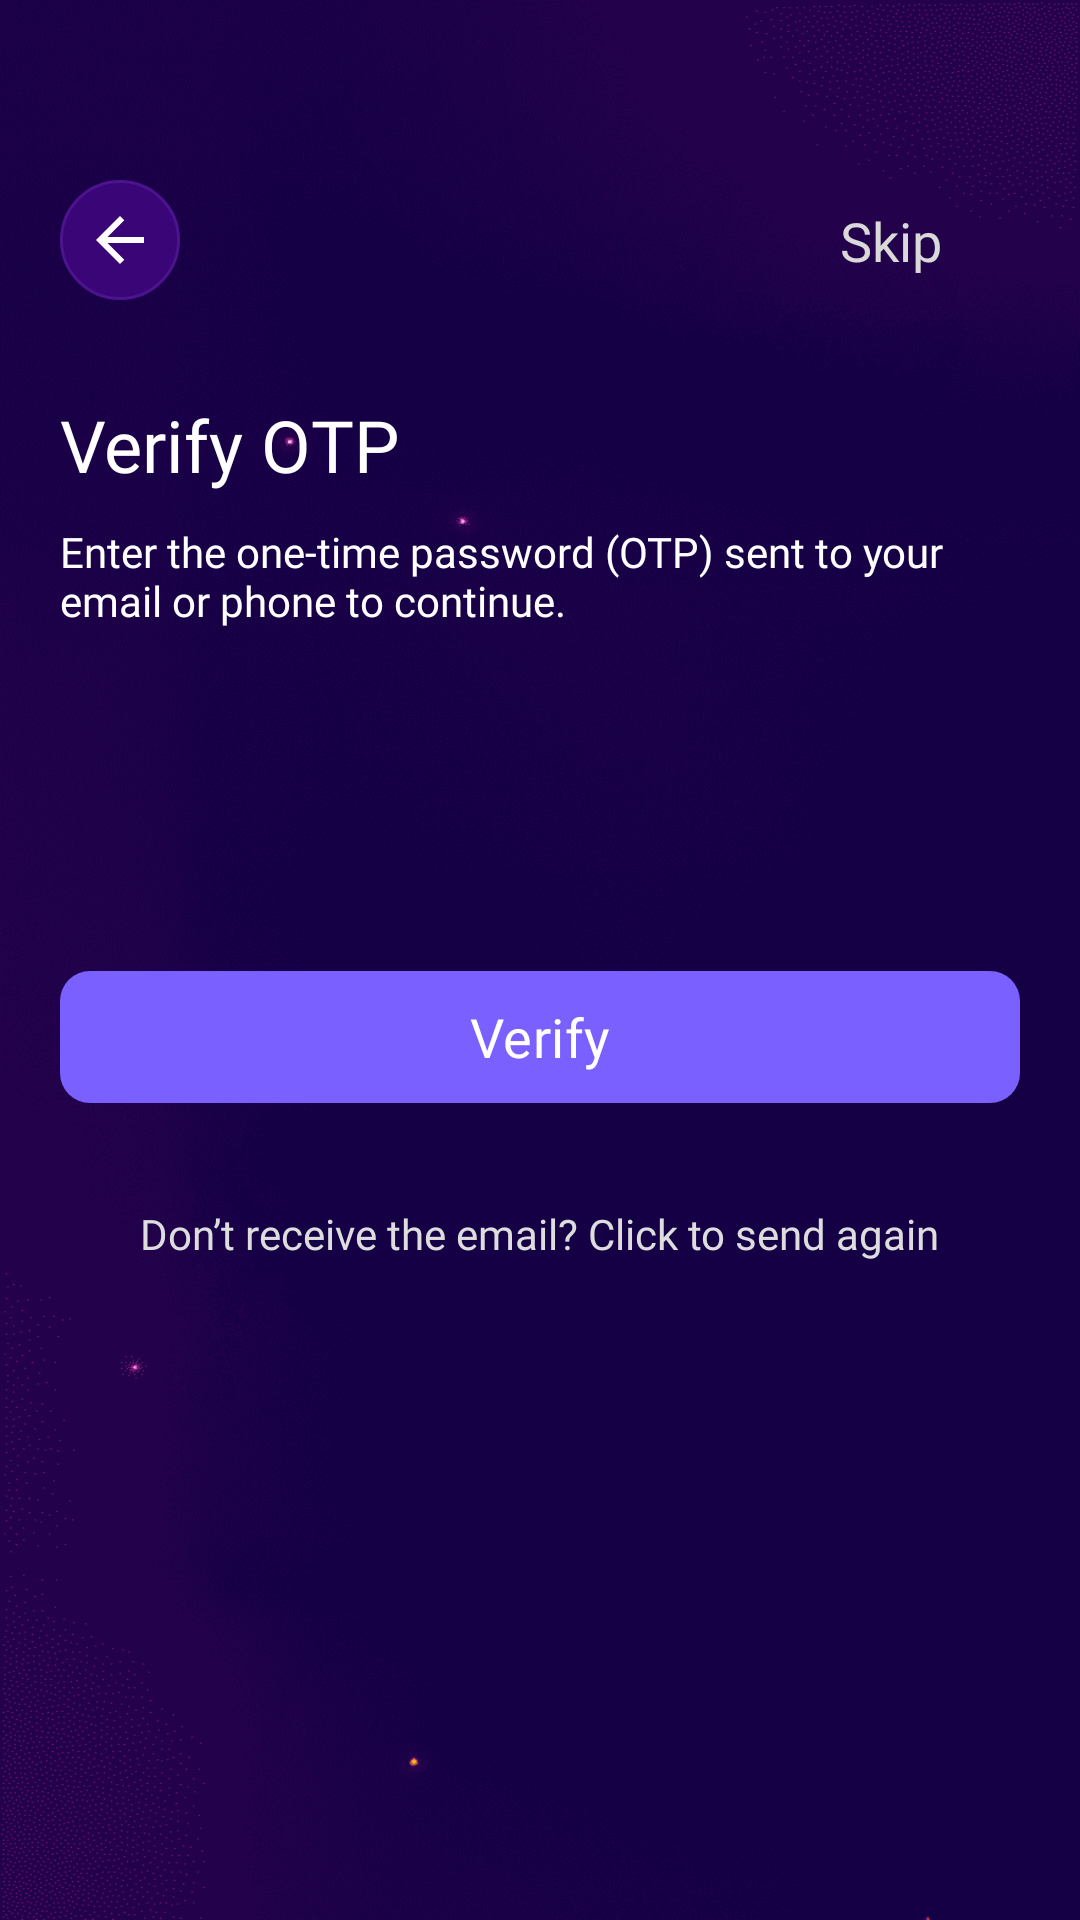

Icons on this 1080 x 1920 Android screen, each with the point to tap as (x,y):
back: (120,240)
